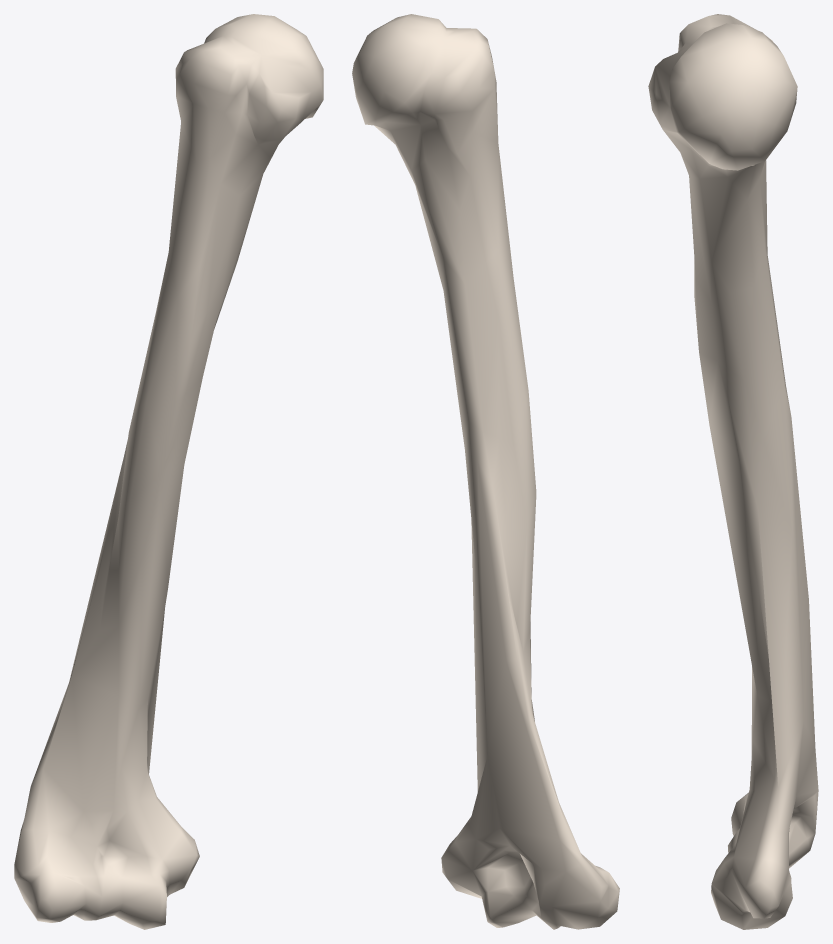
File: right_humerus.glb
3 views of the same model, side by side, from view 1: azimuth 30°, elevation 25°; view 2: azimuth 150°, elevation 25°; view 3: azimuth 270°, elevation 25° (orthographic). The views are drawn at different scales.
Parts seen in each view (by area): view 1: Humerus.r; view 2: Humerus.r; view 3: Humerus.r.
Part boxes in pixels (x1,y1,x2,y2): Humerus.r: [14, 14, 323, 929]; Humerus.r: [352, 14, 619, 929]; Humerus.r: [648, 14, 818, 929].
Size of the model in its own units: 0.1025 by 0.3163 by 0.0516.
